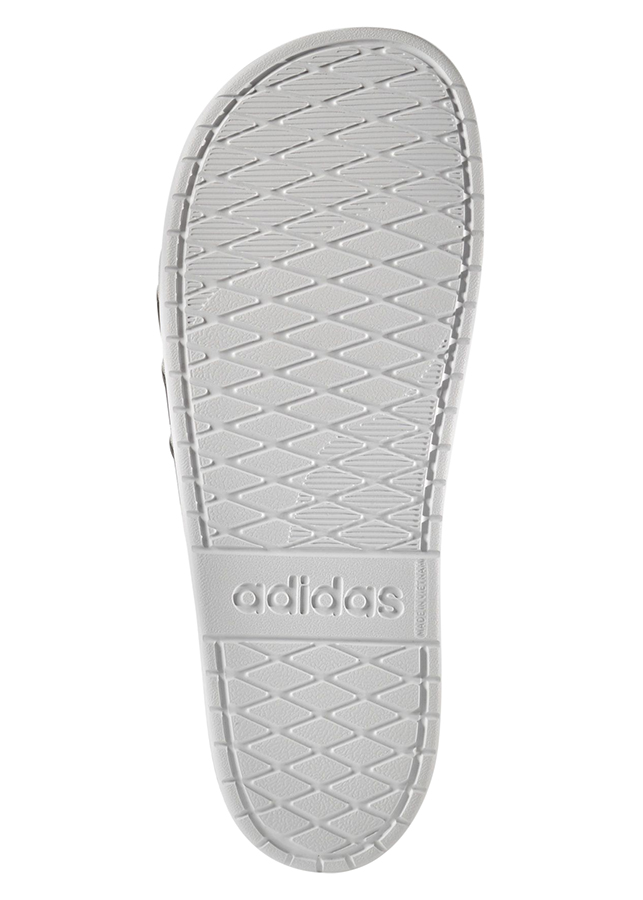Adidas: (222, 563, 409, 629)
